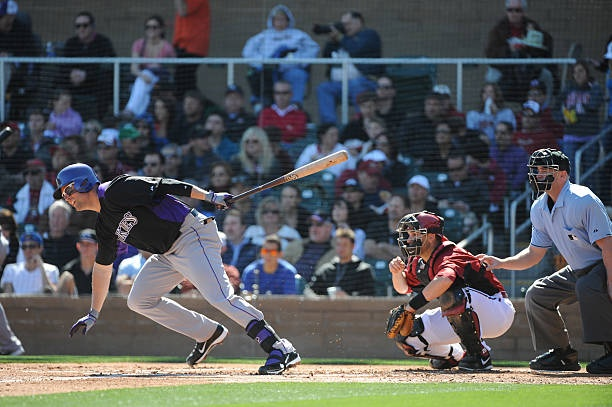bita: (222, 150, 347, 203)
